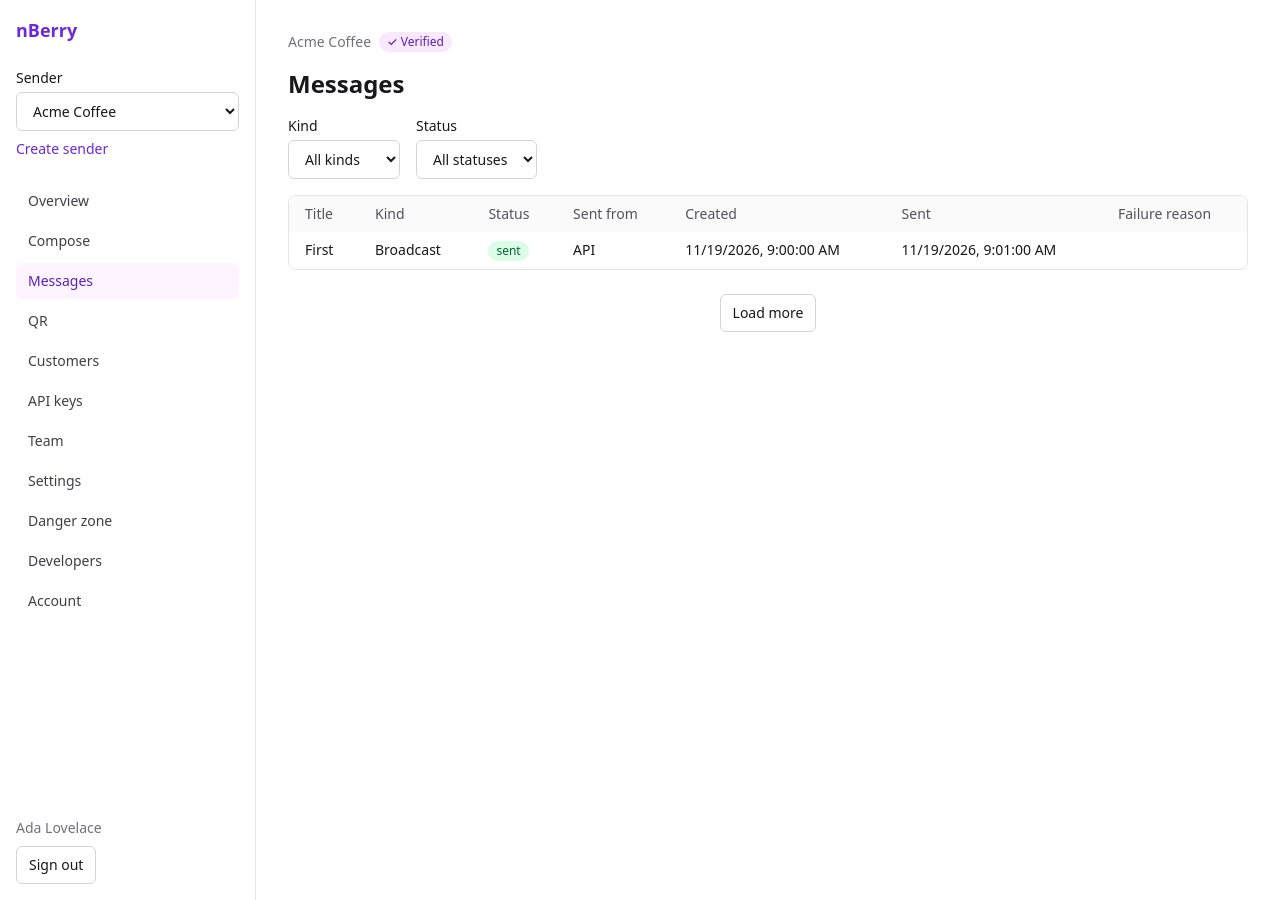
Test: messages table › Load more appends the next page and hides when next_cursor is null
Check: the text "First" is shown, box [305,240,333,259]
Click the button "Load more": (768, 313) [720,294,816,332]
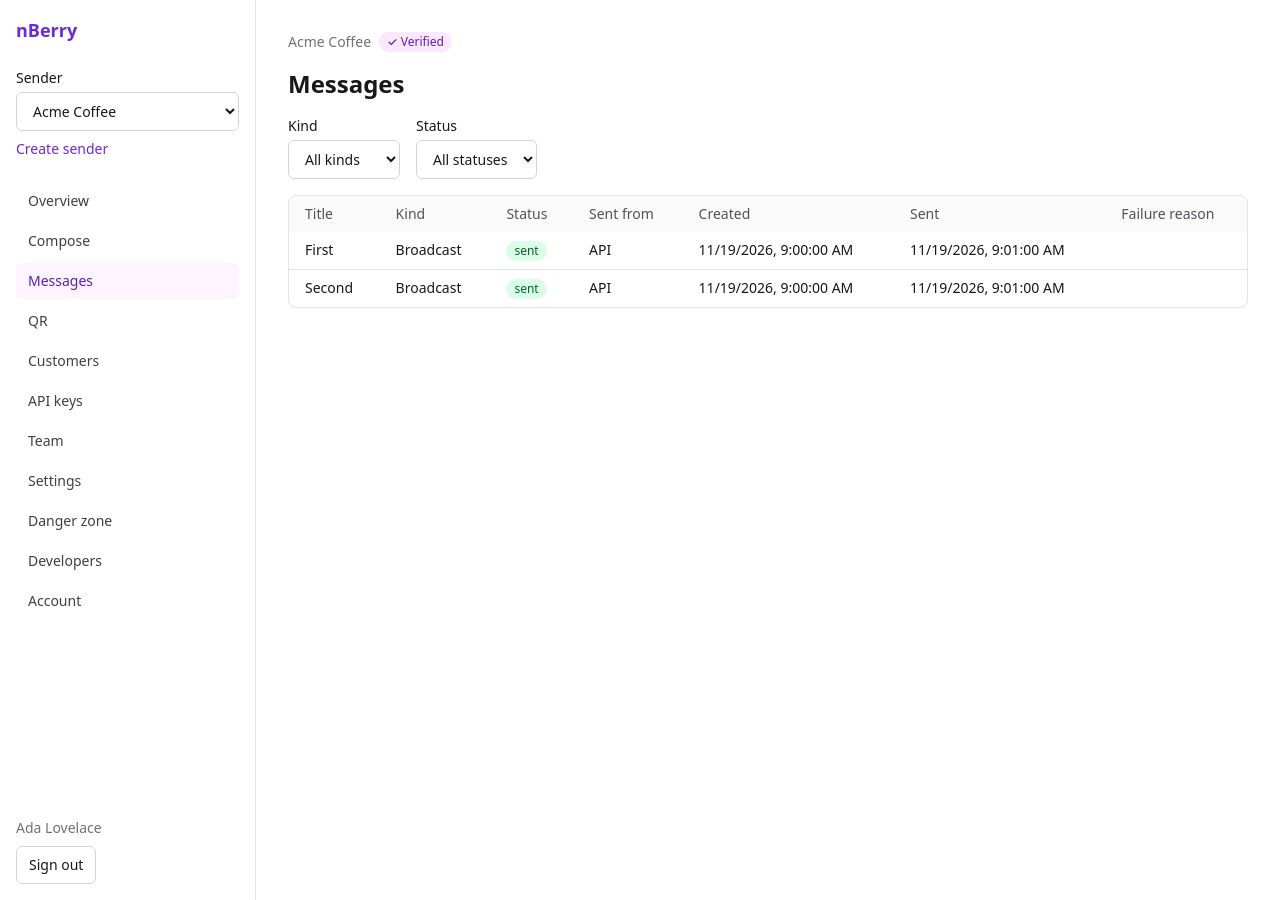
Check: the text "First" is shown, box [305,240,333,259]
Check: the text "Second" is shown, box [305,278,353,297]
Check: the button "Load more" is gone
